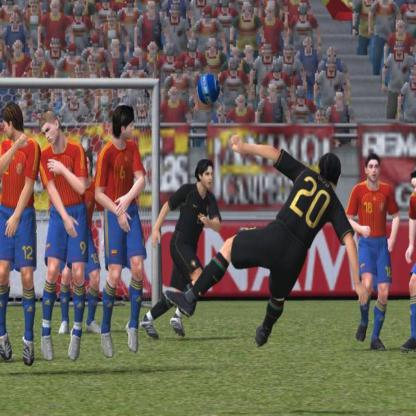face: (42, 122, 59, 145), (368, 160, 380, 182), (125, 119, 135, 141), (204, 167, 214, 189), (4, 119, 14, 140)
